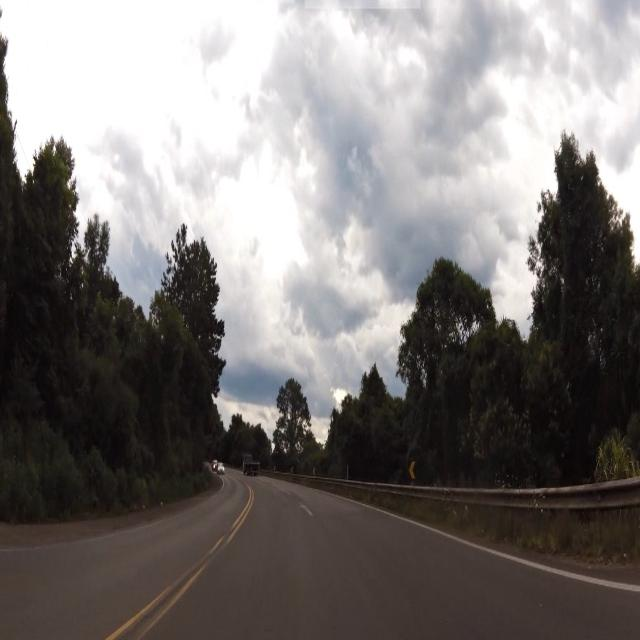Del: (408, 457, 418, 486)
